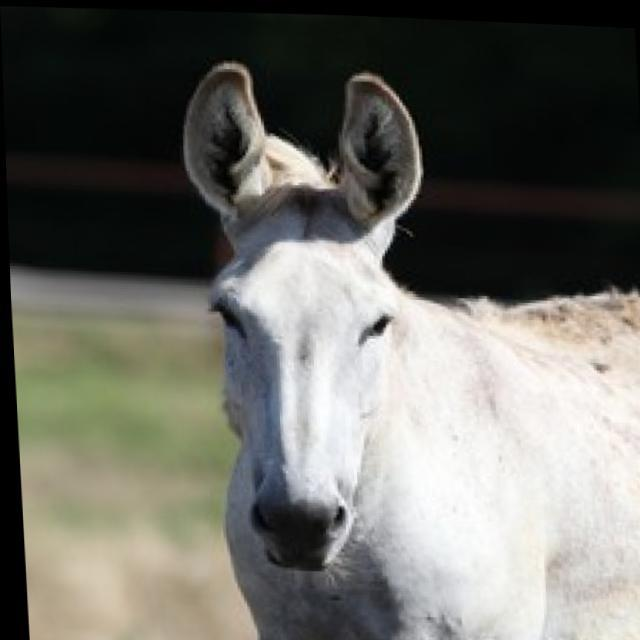Donkey: (173, 46, 640, 640)
